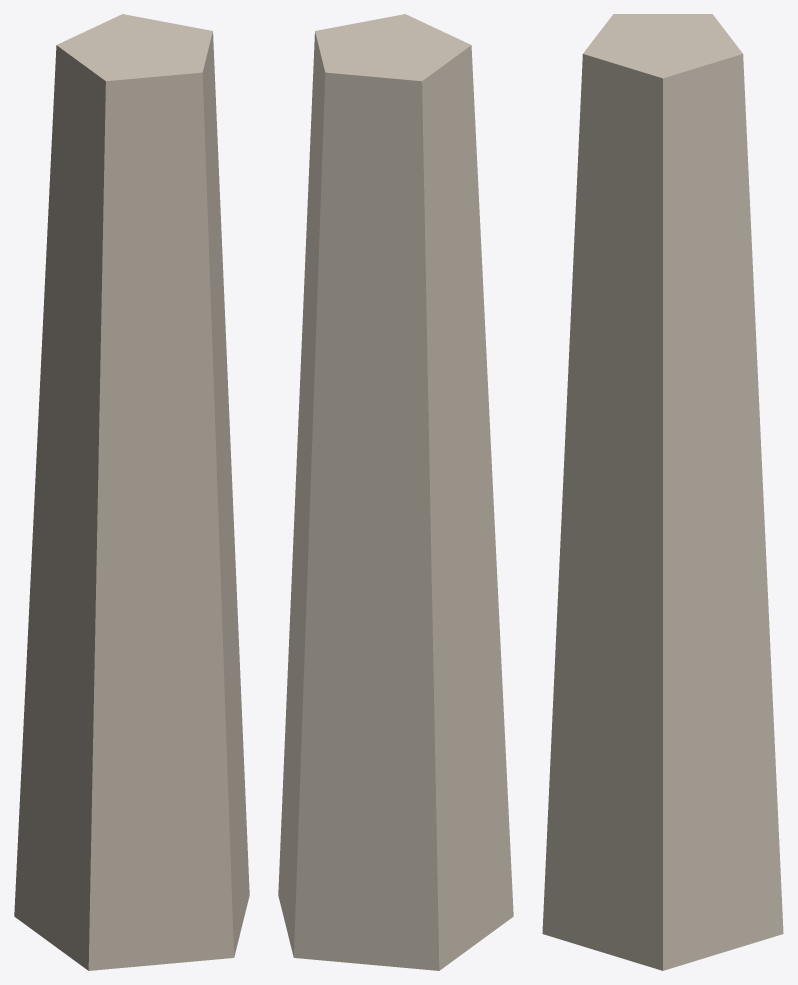
The model's file is Birch4.fbx.
3 renders of one model, left to right at view 1: azimuth 30°, elevation 25°; view 2: azimuth 150°, elevation 25°; view 3: azimuth 270°, elevation 25°, orthographic.
Visible parts, largest first — view 1: Birch4; view 2: Birch4; view 3: Birch4.
Part boxes in pixels (x1=…): Birch4: x1=14, y1=14, x2=249, y2=970; Birch4: x1=278, y1=14, x2=513, y2=970; Birch4: x1=542, y1=14, x2=783, y2=970.
Bounding box in the file's own units: 1.3 × 5.47 × 1.37.
